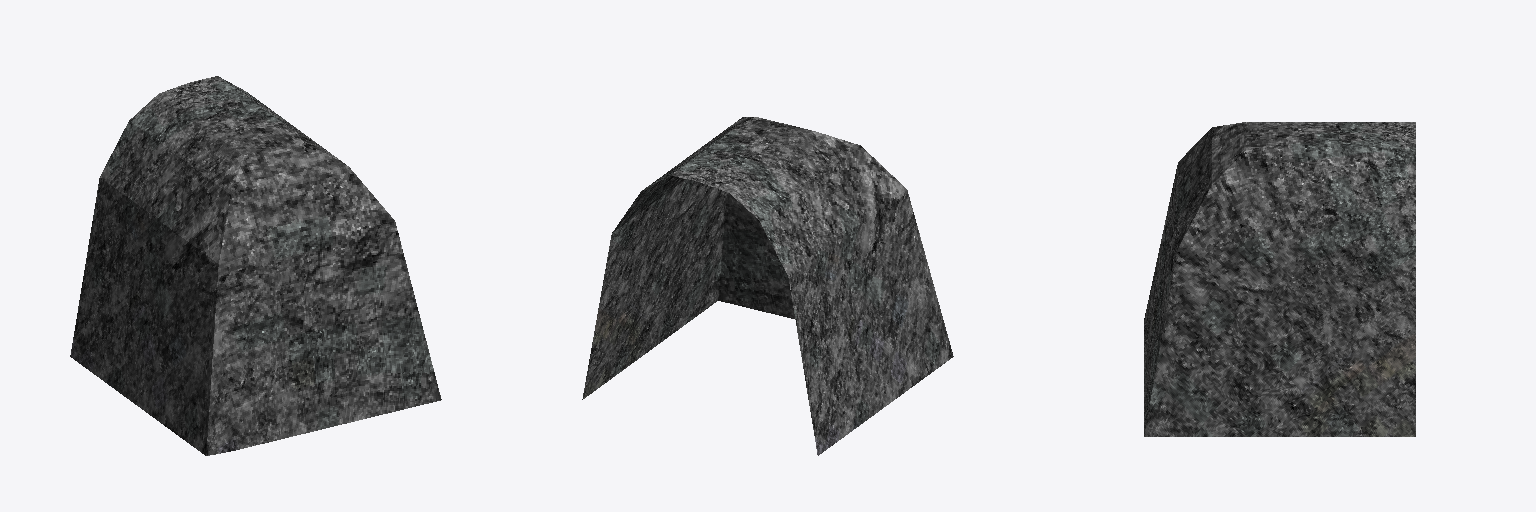
3 renders of one model, left to right at view 1: azimuth 30°, elevation 25°; view 2: azimuth 150°, elevation 25°; view 3: azimuth 270°, elevation 25°, orthographic.
Parts seen in each view (by area): view 1: Grid_Grid.003; view 2: Grid_Grid.003; view 3: Grid_Grid.003.
Boxes of the visible parts, x1=… form: Grid_Grid.003: x1=70, y1=76, x2=441, y2=455; Grid_Grid.003: x1=582, y1=117, x2=953, y2=455; Grid_Grid.003: x1=1144, y1=122, x2=1415, y2=436.
Size of the model in its own units: 1 by 1 by 1.
1 materials, 1 textured.